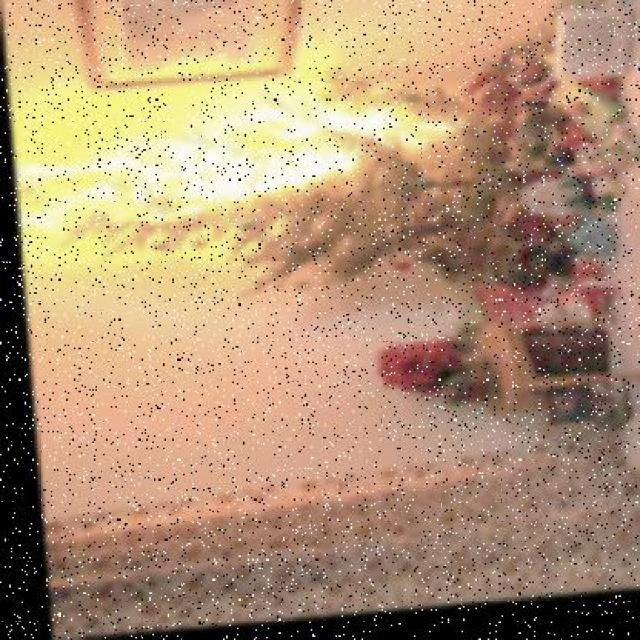fire: (10, 74, 494, 303)
